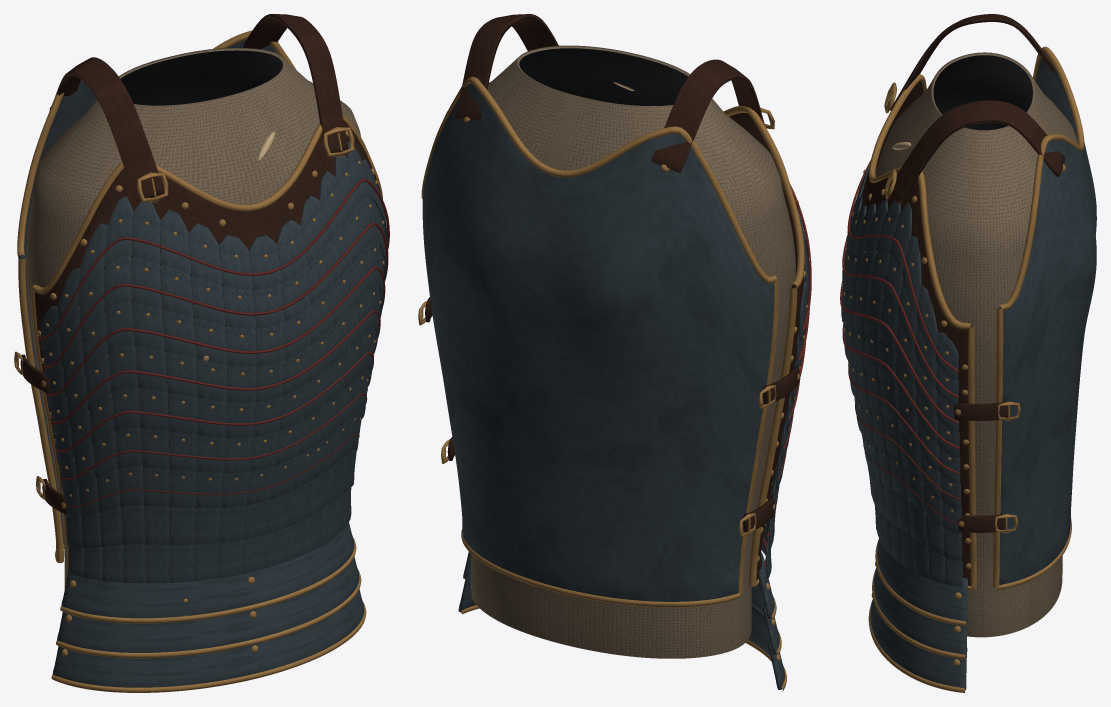
3 renders of one model, left to right at view 1: azimuth 30°, elevation 25°; view 2: azimuth 150°, elevation 25°; view 3: azimuth 270°, elevation 25°, orthographic. The views are drawn at different scales.
Parts seen in each view (by area): view 1: blackened lamellar plate, quilted linen lining, oiled strap leather, aged alloy edge, woven wool, recess and lining; view 2: blackened lamellar plate, quilted linen lining, aged alloy edge, oiled strap leather, recess and lining, woven wool; view 3: blackened lamellar plate, quilted linen lining, aged alloy edge, oiled strap leather, recess and lining, woven wool.
Part boxes in pixels (<box>): blackened lamellar plate: <box>18,40,387,687</box>; quilted linen lining: <box>26,48,360,589</box>; oiled strap leather: <box>20,14,380,573</box>; aged alloy edge: <box>14,30,388,692</box>; woven wool: <box>39,179,389,567</box>; recess and lining: <box>120,50,282,105</box>; blackened lamellar plate: <box>422,83,808,689</box>; quilted linen lining: <box>446,45,795,658</box>; aged alloy edge: <box>418,76,810,691</box>; oiled strap leather: <box>425,14,803,580</box>; recess and lining: <box>519,48,688,105</box>; woven wool: <box>762,184,811,566</box>; blackened lamellar plate: <box>841,58,1096,690</box>; quilted linen lining: <box>875,52,1077,637</box>; aged alloy edge: <box>841,46,1084,692</box>; oiled strap leather: <box>861,14,1065,585</box>; recess and lining: <box>933,55,1032,130</box>; woven wool: <box>840,161,962,576</box>.
Size of the model in its own units: 0.3926 by 0.6466 by 0.2673.
8 materials, 5 textured.
